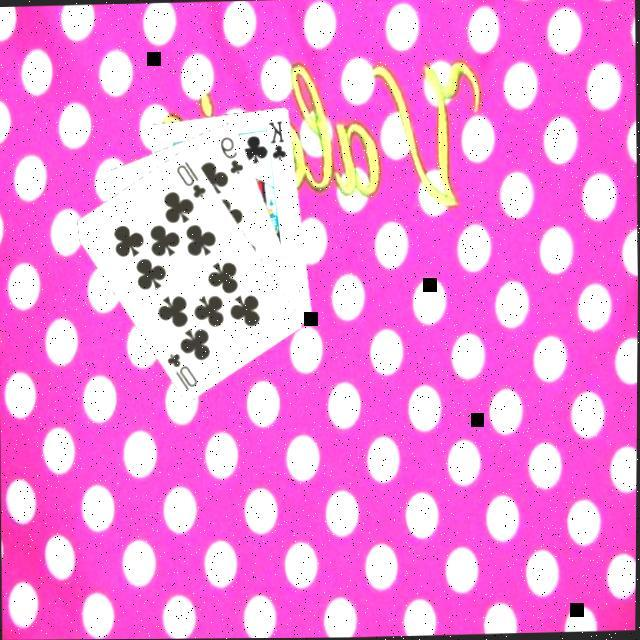10C: (172, 154, 210, 199), (165, 347, 202, 392)
9C: (216, 130, 248, 177)
KC: (262, 116, 290, 166)
